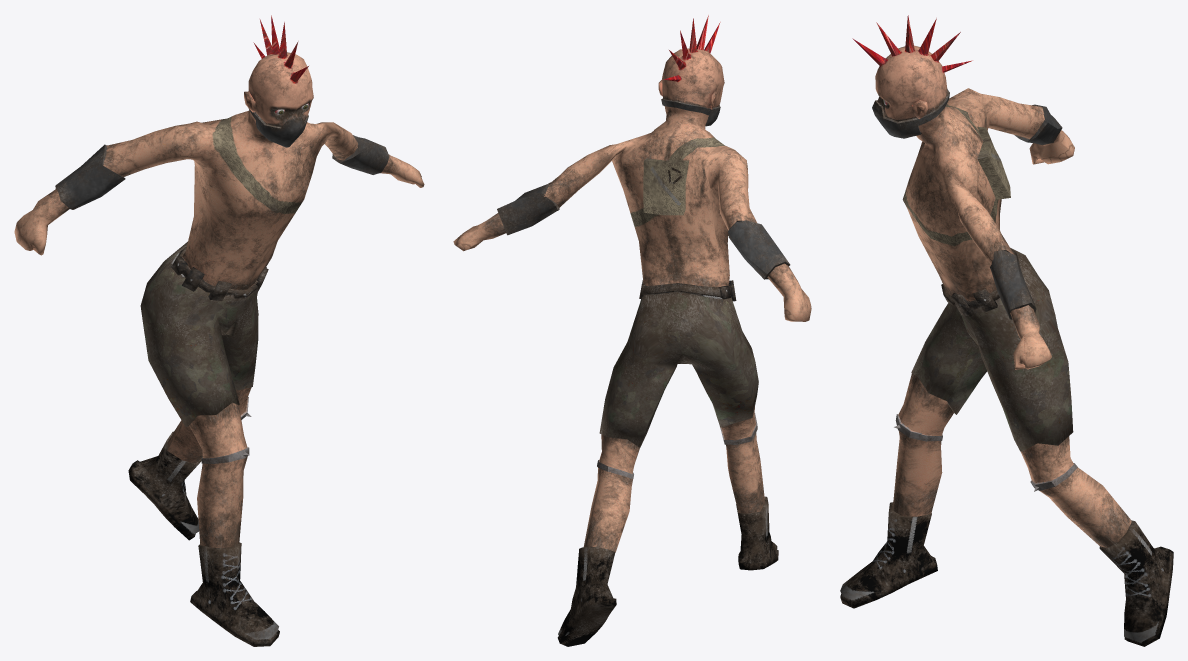
The model's file is Anim_arma_c_npc2.0033.obj.
The picture shows the model from 3 angles, left to right: view 1: azimuth 30°, elevation 25°; view 2: azimuth 150°, elevation 25°; view 3: azimuth 270°, elevation 25°; orthographic projection. The views are drawn at different scales.
Parts seen in each view (by area): view 1: polySurface1; view 2: polySurface1; view 3: polySurface1.
Boxes of the visible parts, x1,y1,x2,y2 form: polySurface1: [14, 15, 424, 646]; polySurface1: [453, 15, 811, 646]; polySurface1: [840, 15, 1173, 646].
Size of the model in its own units: 6.82 by 10.03 by 4.87.
